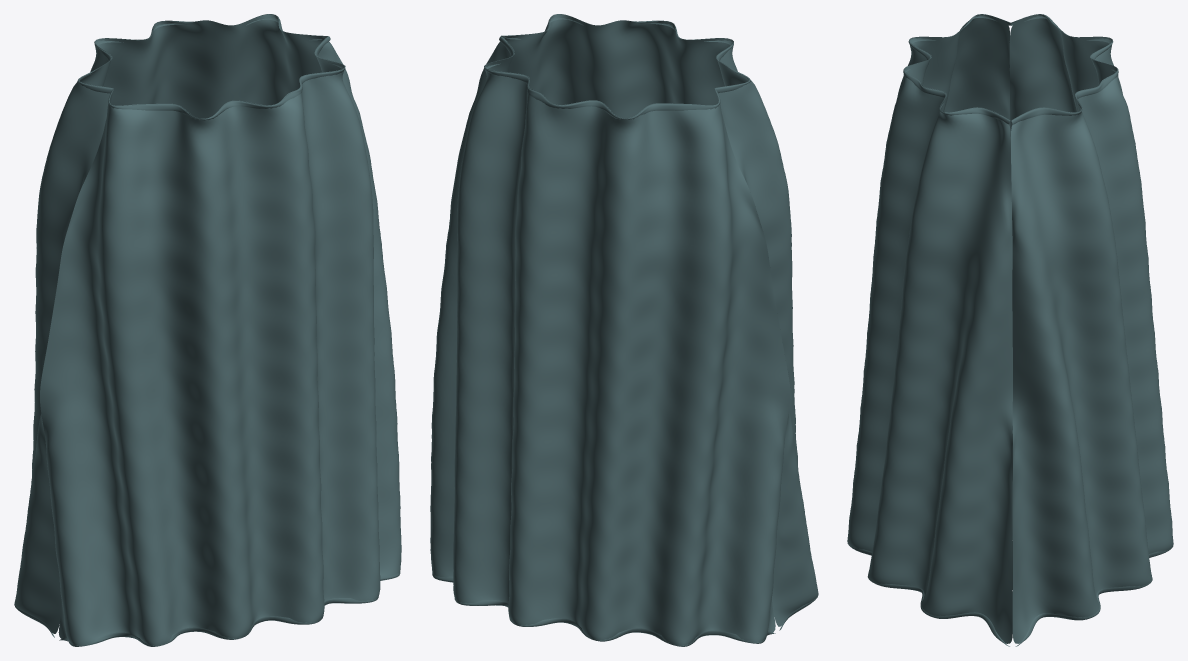
Rendered from 天鹅绒.glb.
The picture shows the model from 3 angles, left to right: view 1: azimuth 30°, elevation 25°; view 2: azimuth 150°, elevation 25°; view 3: azimuth 270°, elevation 25°; orthographic projection. The views are drawn at different scales.
Visible parts, largest first — view 1: 前片, 后片, 前片 包边, 后片 包边; view 2: 后片, 前片, 后片 包边, 前片 包边; view 3: 前片, 后片, 后片 包边, 前片 包边.
Part boxes in pixels (x1=…): 前片: x1=40, y1=41, x2=401, y2=646; 后片: x1=14, y1=14, x2=324, y2=633; 前片 包边: x1=59, y1=36, x2=400, y2=646; 后片 包边: x1=14, y1=14, x2=327, y2=637; 后片: x1=430, y1=41, x2=790, y2=646; 前片: x1=504, y1=14, x2=818, y2=626; 后片 包边: x1=432, y1=36, x2=775, y2=646; 前片 包边: x1=501, y1=14, x2=818, y2=630; 前片: x1=847, y1=14, x2=1012, y2=643; 后片: x1=1009, y1=14, x2=1173, y2=643; 后片 包边: x1=1010, y1=14, x2=1171, y2=646; 前片 包边: x1=847, y1=14, x2=1011, y2=646.
Size of the model in its own units: 0.4658 by 0.6708 by 0.3958.
